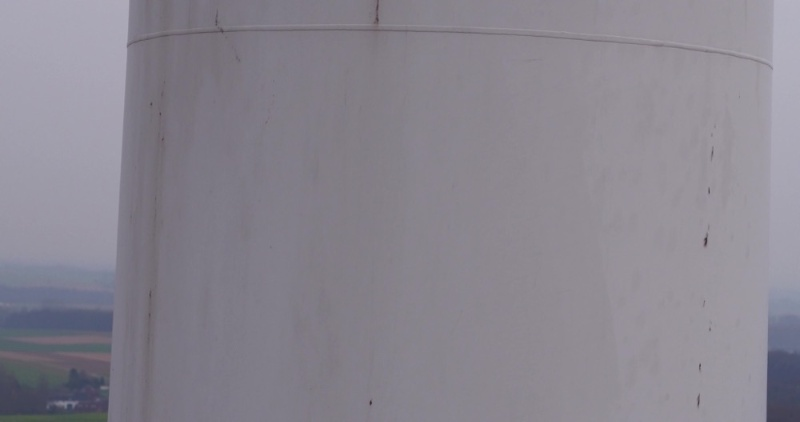weldseam: (125, 20, 775, 73)
